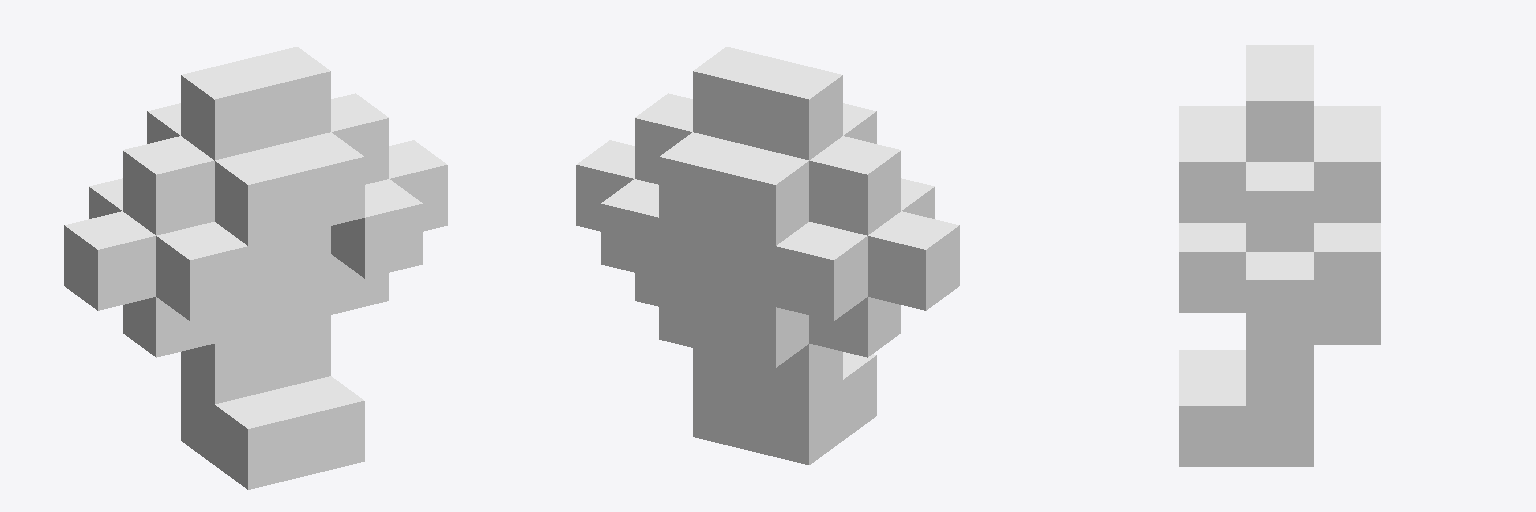
The model's file is scummBarPirate07_head.obj.
3 renders of one model, left to right at view 1: azimuth 30°, elevation 25°; view 2: azimuth 150°, elevation 25°; view 3: azimuth 270°, elevation 25°, orthographic.
Size of the model in its own units: 6 by 6 by 3.